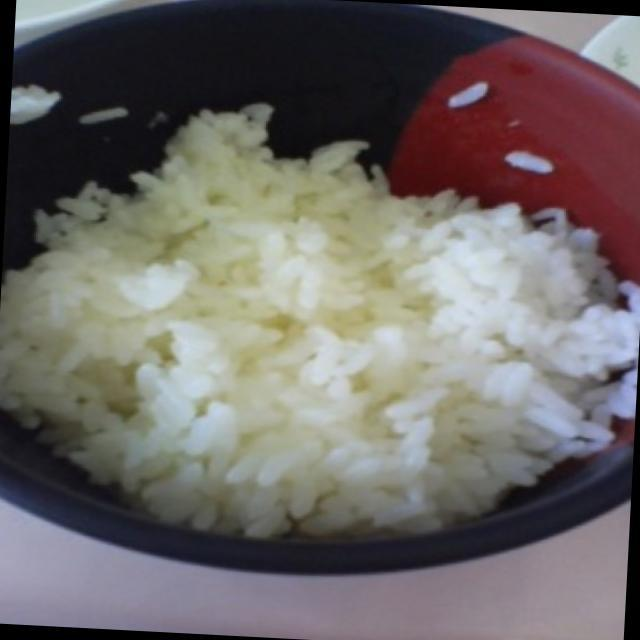Rice: (0, 132, 640, 557)
